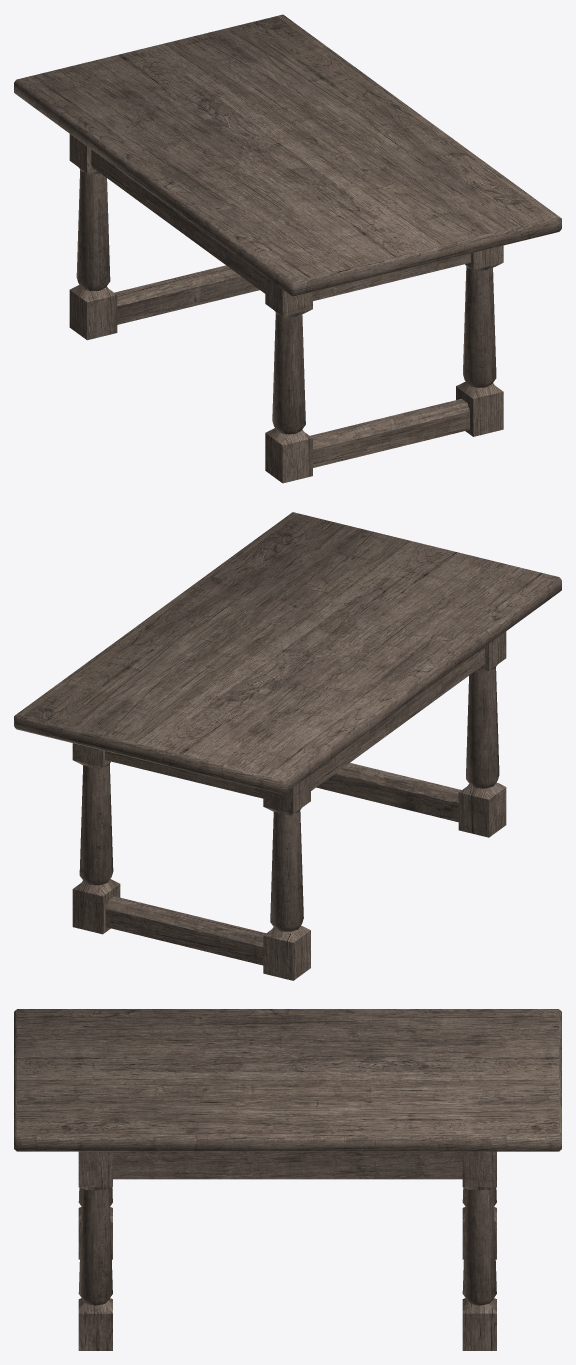
File: mw_table_04.FBX
3 views of the same model, one above another, from view 1: azimuth 30°, elevation 25°; view 2: azimuth 150°, elevation 25°; view 3: azimuth 270°, elevation 25° (orthographic).
Parts seen in each view (by area): view 1: mw_table_04; view 2: mw_table_04; view 3: mw_table_04.
Part boxes in pixels (x1=…): mw_table_04: x1=14, y1=14, x2=561, y2=483; mw_table_04: x1=14, y1=512, x2=561, y2=980; mw_table_04: x1=14, y1=1009, x2=561, y2=1350.
Bounding box in the file's own units: 131 × 106 × 233.
